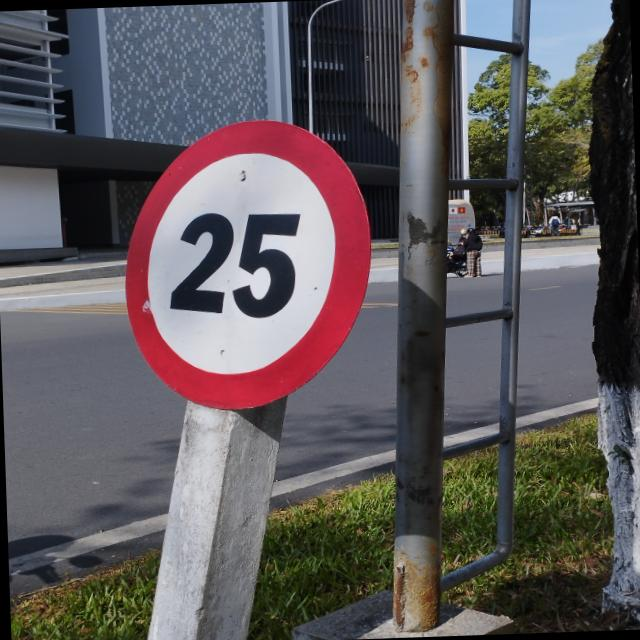Tre_Em: (119, 114, 377, 412)
